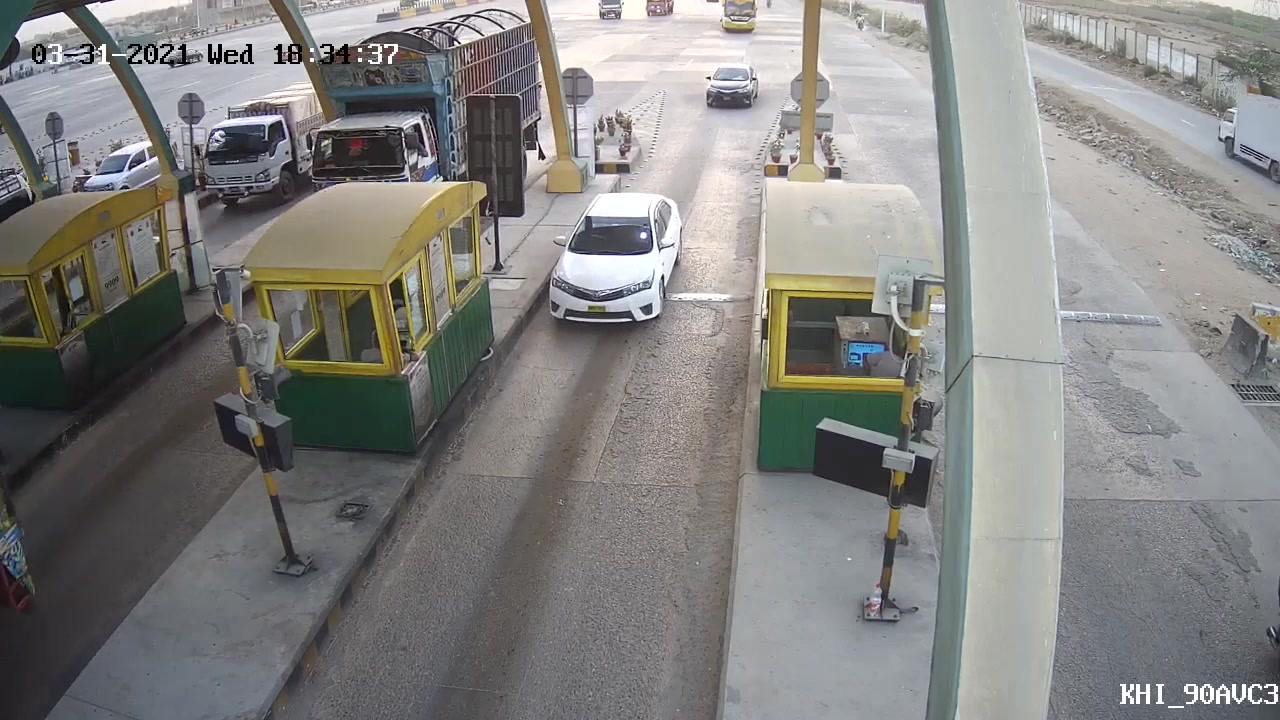F1: (533, 184, 697, 335)
